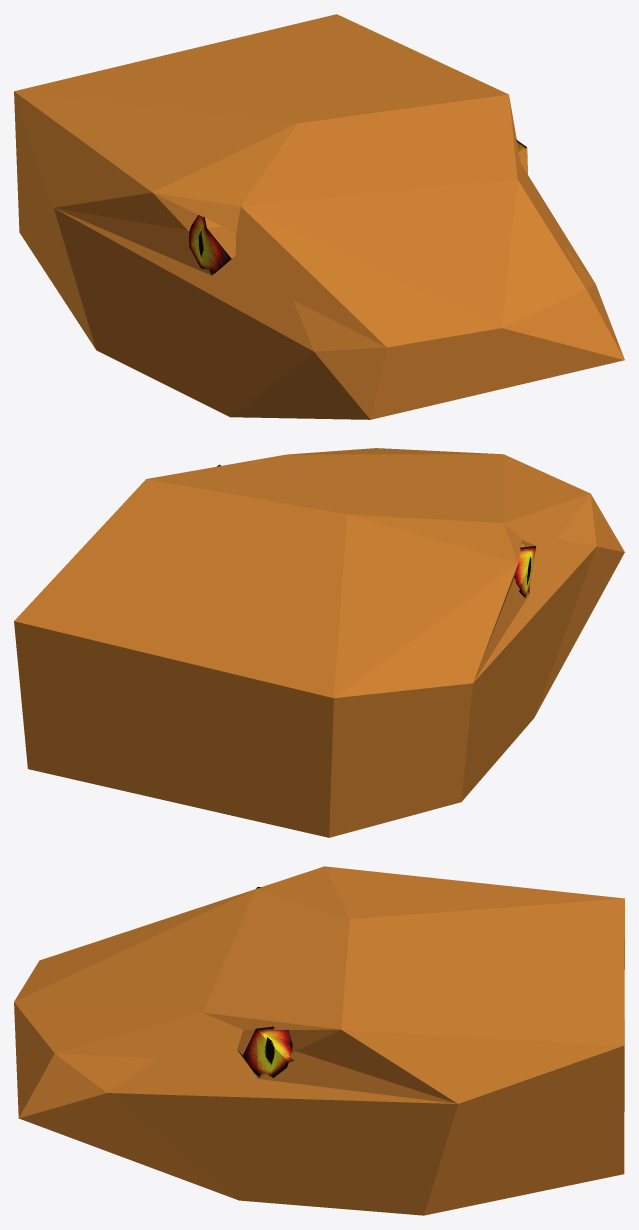
Rendered from lowpolysnakehead.fbx.
3 renders of one model, top to bottom at view 1: azimuth 30°, elevation 25°; view 2: azimuth 150°, elevation 25°; view 3: azimuth 270°, elevation 25°, orthographic. The views are drawn at different scales.
Visible parts, largest first — view 1: Cube; view 2: Cube; view 3: Cube.
Part boxes in pixels (left/top/right/bottom): Cube: left=14, top=14, right=624, bottom=419; Cube: left=14, top=448, right=624, bottom=837; Cube: left=14, top=866, right=624, bottom=1215.
Bounding box in the file's own units: 194 × 97.54 × 265.
